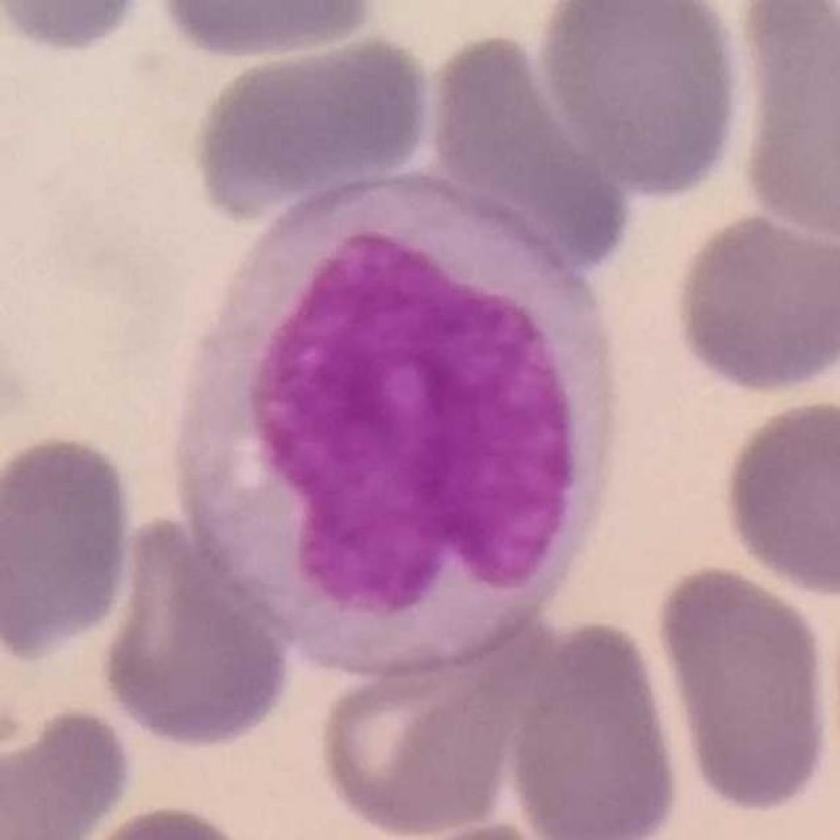monocyte: (174, 169, 627, 682)
